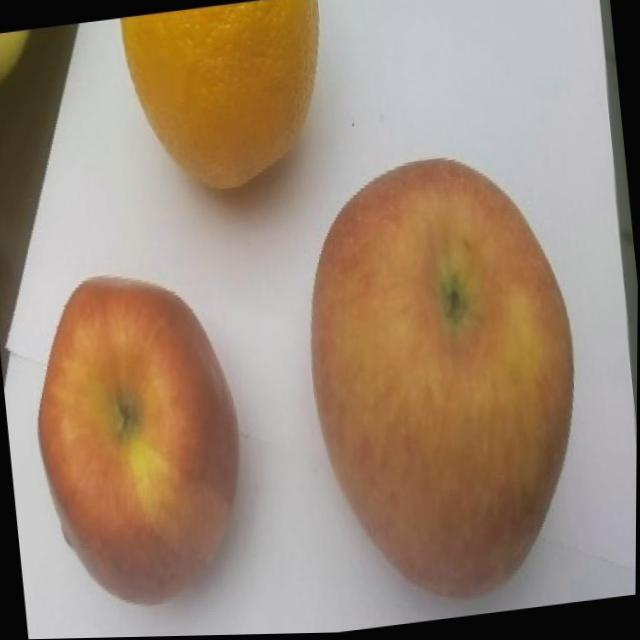Apple: (289, 143, 600, 616), (20, 260, 257, 617)
Orange: (117, 0, 335, 201)
